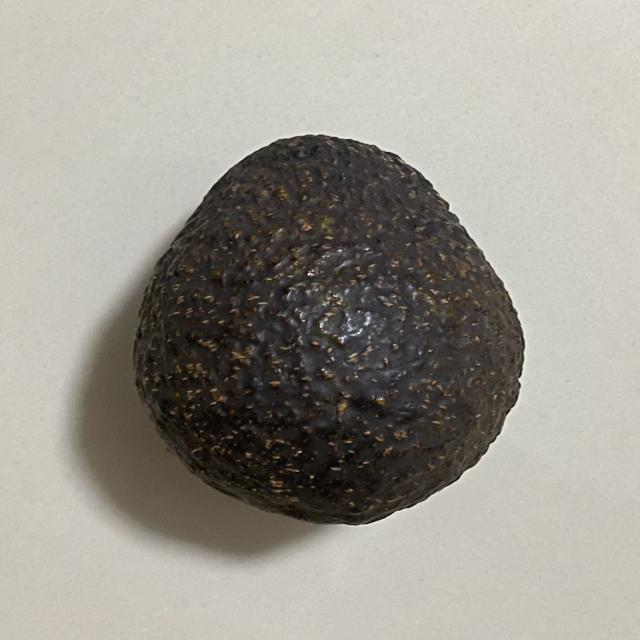Level3: (125, 125, 535, 534)
